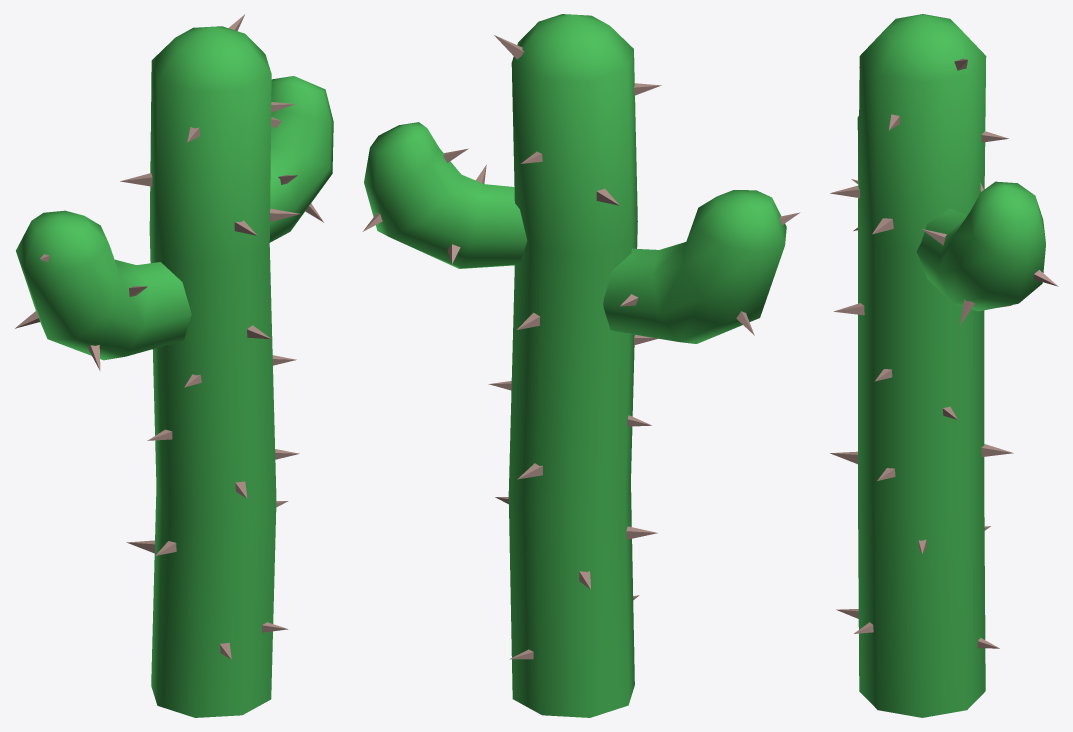
Rendered from Cactus4.fbx.
The picture shows the model from 3 angles, left to right: view 1: azimuth 30°, elevation 25°; view 2: azimuth 150°, elevation 25°; view 3: azimuth 270°, elevation 25°; orthographic projection.
Parts seen in each view (by area): view 1: Cactus4.001; view 2: Cactus4.001; view 3: Cactus4.001.
Boxes of the visible parts, left/top/right/bottom form: Cactus4.001: left=15, top=14, right=333, bottom=717; Cactus4.001: left=362, top=14, right=800, bottom=717; Cactus4.001: left=830, top=14, right=1058, bottom=717.
Size of the model in its own units: 0.5315 by 0.968 by 1.73.
